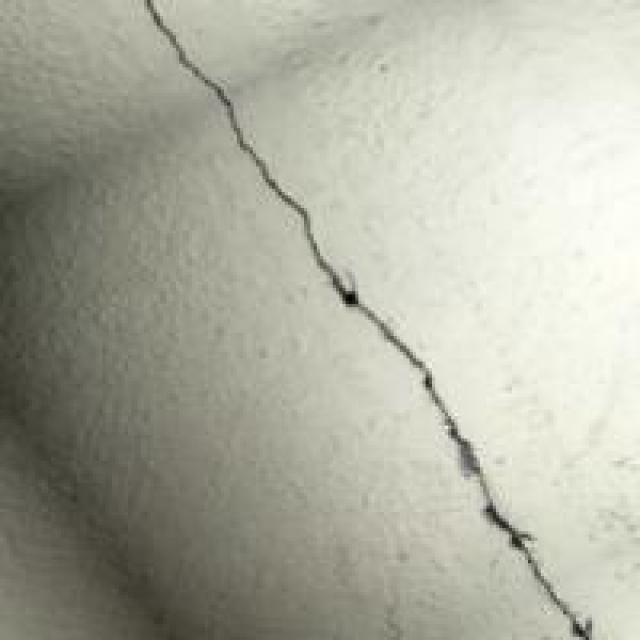Crack: (112, 0, 634, 637)
